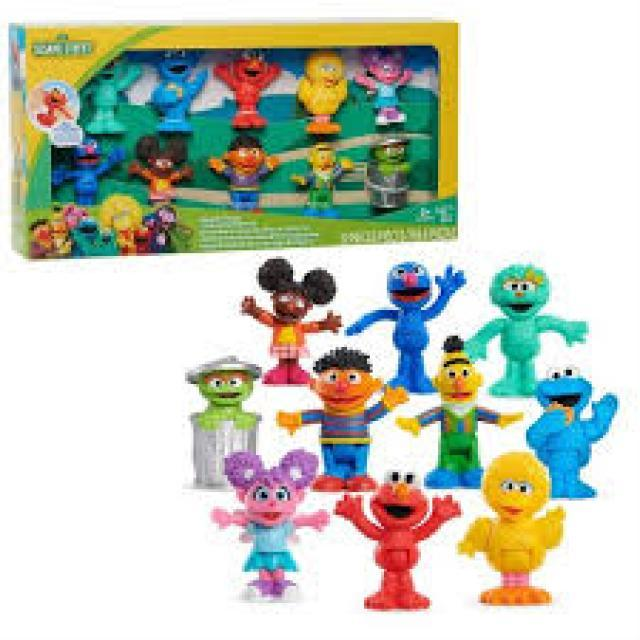hard-toy: (399, 337, 522, 489), (212, 451, 330, 598), (466, 266, 589, 397), (460, 454, 566, 605), (336, 485, 462, 610), (347, 262, 467, 393), (242, 259, 342, 385), (529, 381, 619, 499), (191, 359, 261, 488), (311, 370, 382, 417)
